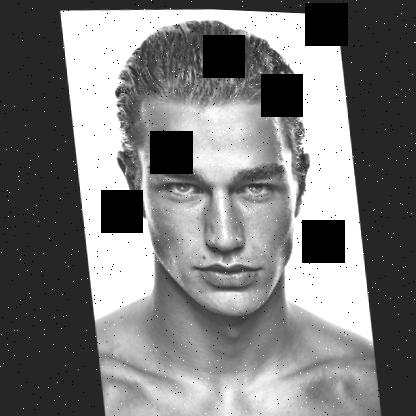Male: (106, 87, 323, 322)
